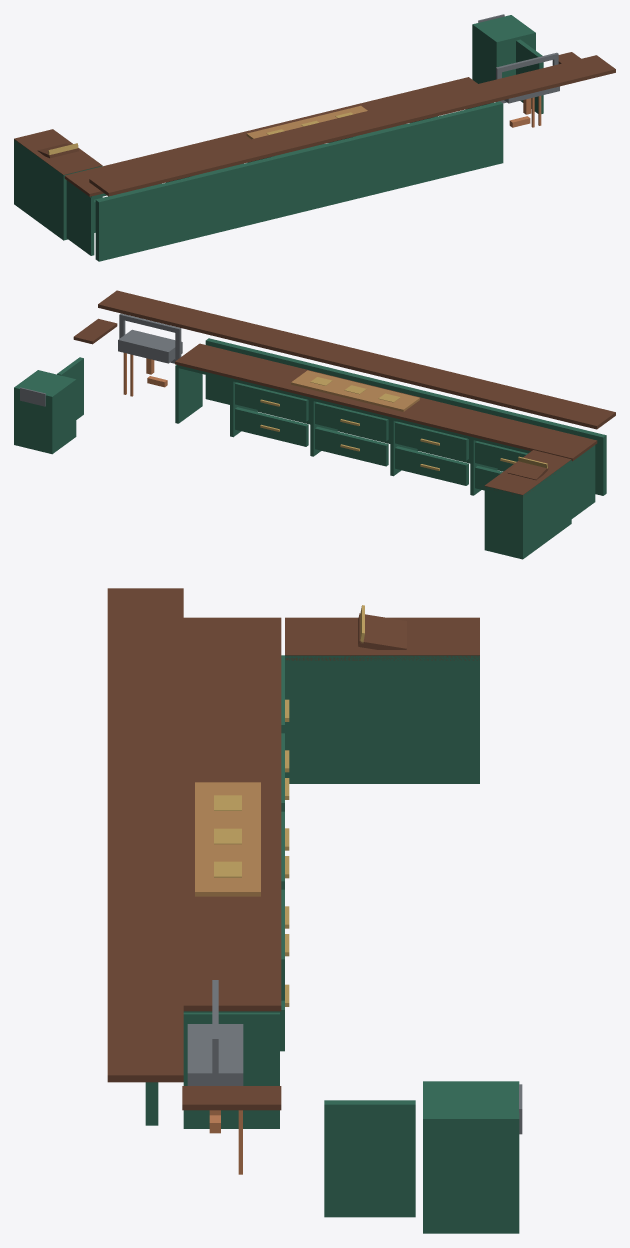
Rendered from bar_counter.glb.
3 views of the same model, one above another, from view 1: azimuth 30°, elevation 25°; view 2: azimuth 150°, elevation 25°; view 3: azimuth 270°, elevation 25° (orthographic). The views are drawn at different scales.
Visible parts, largest first — view 1: front_guest_apron, guest_counter_top, west_manual_return, player_worktop_west, waste_bin_body, counter_carcass_divider_1, west_manual_return_top, workboard, employee_gate_leaf, east_sink_rim; view 2: guest_counter_top, player_worktop_west, west_manual_return, front_guest_apron, waste_bin_body, workboard, front_drawer_3_lower_face, front_drawer_4_lower_face, front_drawer_2_lower_face, front_drawer_2_upper_face, front_drawer_4_upper_face, front_drawer_3_upper_face (+15 smaller); view 3: guest_counter_top, player_worktop_west, west_manual_return, waste_bin_body, employee_gate_leaf, west_manual_return_top, workboard, counter_carcass_divider_6, east_sink_basin, player_worktop_east_cap, manual_shelf_board.
Boxes of the visible parts, x1=… form: front_guest_apron: x1=95, y1=101, x2=503, y2=261; guest_counter_top: x1=89, y1=55, x2=615, y2=196; west_manual_return: x1=14, y1=139, x2=102, y2=240; player_worktop_west: x1=64, y1=77, x2=477, y2=196; waste_bin_body: x1=472, y1=15, x2=535, y2=83; counter_carcass_divider_1: x1=66, y1=180, x2=94, y2=255; west_manual_return_top: x1=14, y1=129, x2=102, y2=174; workboard: x1=246, y1=105, x2=367, y2=139; employee_gate_leaf: x1=516, y1=39, x2=543, y2=113; east_sink_rim: x1=496, y1=52, x2=558, y2=103; guest_counter_top: x1=98, y1=290, x2=615, y2=429; player_worktop_west: x1=175, y1=343, x2=597, y2=461; west_manual_return: x1=484, y1=460, x2=571, y2=559; front_guest_apron: x1=205, y1=338, x2=606, y2=495; waste_bin_body: x1=14, y1=370, x2=76, y2=454; workboard: x1=291, y1=370, x2=419, y2=411; front_drawer_3_lower_face: x1=315, y1=426, x2=388, y2=466; front_drawer_4_lower_face: x1=235, y1=407, x2=308, y2=446; front_drawer_2_lower_face: x1=395, y1=446, x2=468, y2=485; front_drawer_2_upper_face: x1=395, y1=421, x2=468, y2=460; front_drawer_4_upper_face: x1=235, y1=382, x2=308, y2=421; front_drawer_3_upper_face: x1=315, y1=402, x2=388, y2=441; guest_counter_top: x1=107, y1=588, x2=183, y2=1082; player_worktop_west: x1=183, y1=617, x2=281, y2=1011; west_manual_return: x1=285, y1=655, x2=479, y2=783; waste_bin_body: x1=423, y1=1081, x2=519, y2=1233; employee_gate_leaf: x1=324, y1=1100, x2=415, y2=1217; west_manual_return_top: x1=285, y1=617, x2=479, y2=660; workboard: x1=195, y1=782, x2=260, y2=896; counter_carcass_divider_6: x1=183, y1=1012, x2=279, y2=1128; east_sink_basin: x1=187, y1=1024, x2=243, y2=1085; player_worktop_east_cap: x1=182, y1=1086, x2=281, y2=1110; manual_shelf_board: x1=358, y1=613, x2=406, y2=649.
Bounding box in the file's own units: 9.1 × 1.44 × 3.27.
